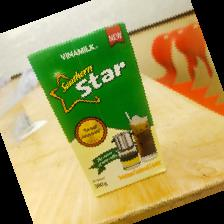NSPN_Hop: (26, 24, 167, 201)
